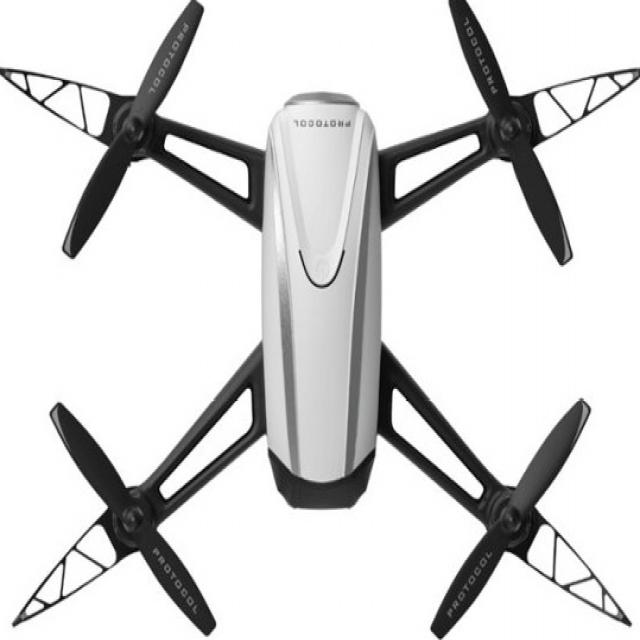drone: (0, 0, 639, 634)
